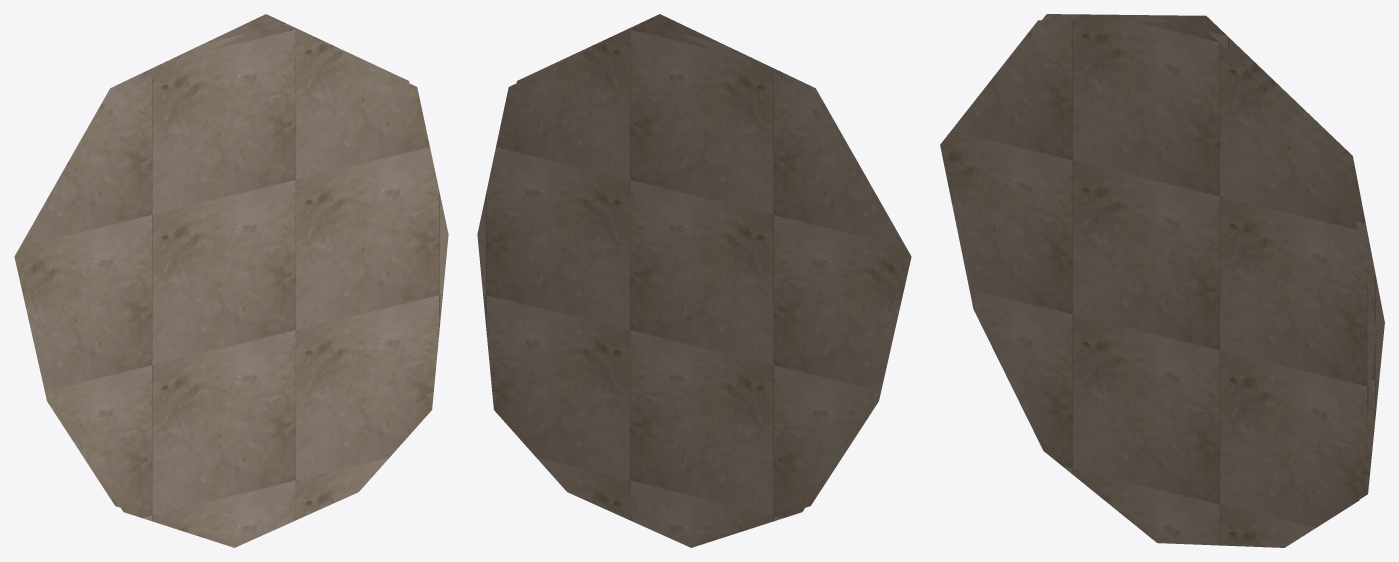
Rendered from floor_11.obj.
The picture shows the model from 3 angles, left to right: view 1: azimuth 30°, elevation 25°; view 2: azimuth 150°, elevation 25°; view 3: azimuth 330°, elevation 25°; orthographic projection. The views are drawn at different scales.
Parts seen in each view (by area): view 1: floor_11; view 2: floor_11; view 3: floor_11.
Boxes of the visible parts, x1=… form: floor_11: x1=14, y1=14, x2=448, y2=547; floor_11: x1=477, y1=14, x2=911, y2=547; floor_11: x1=940, y1=14, x2=1384, y2=547.
Size of the model in its own units: 2.97 by 3.45 by 0.1.
1 material, 1 textured.
